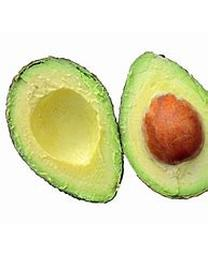avocado: (8, 57, 124, 203), (113, 51, 207, 201)
